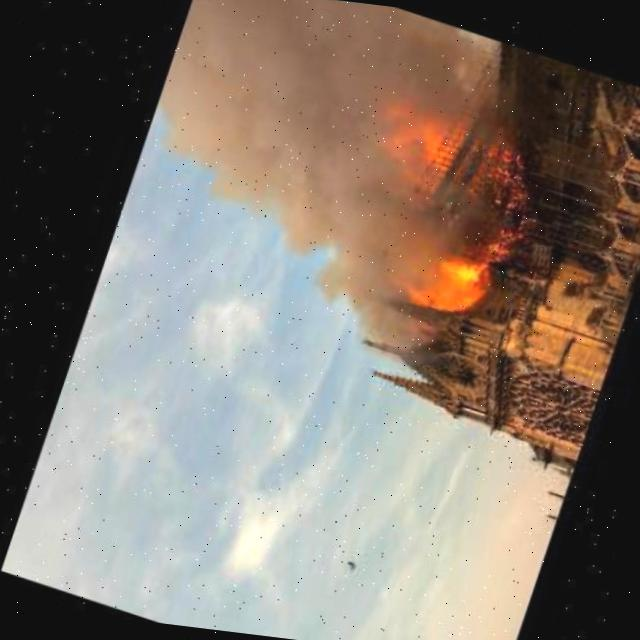fire: (332, 65, 539, 352)
